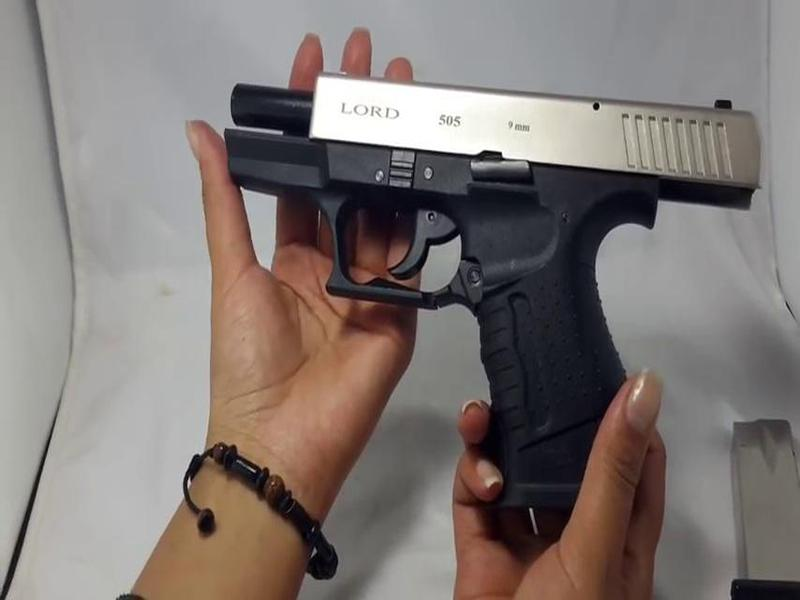Pistola: (207, 64, 756, 489)
